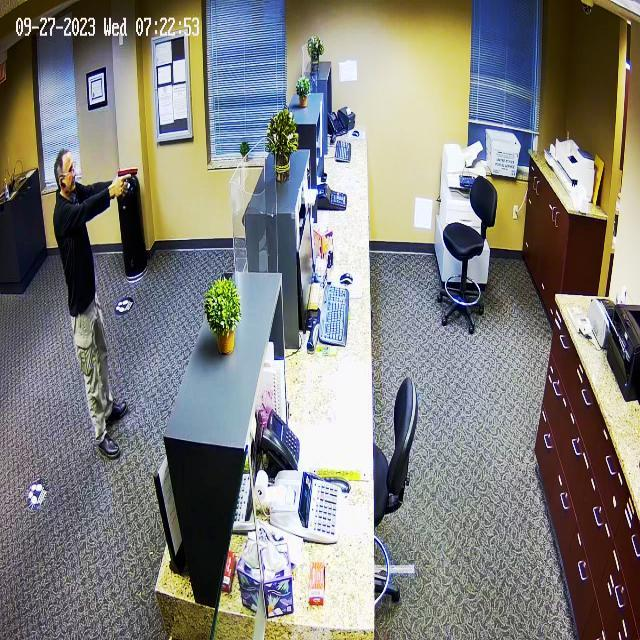Gun: (108, 160, 154, 197)
